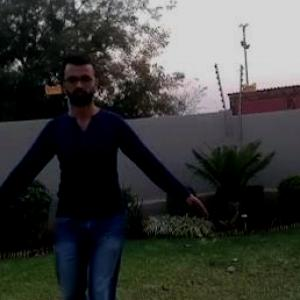land: (1, 70, 180, 299)
